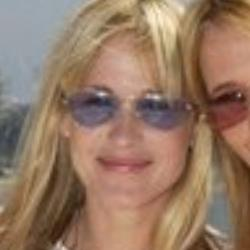face: (9, 2, 215, 248), (173, 4, 250, 176)
